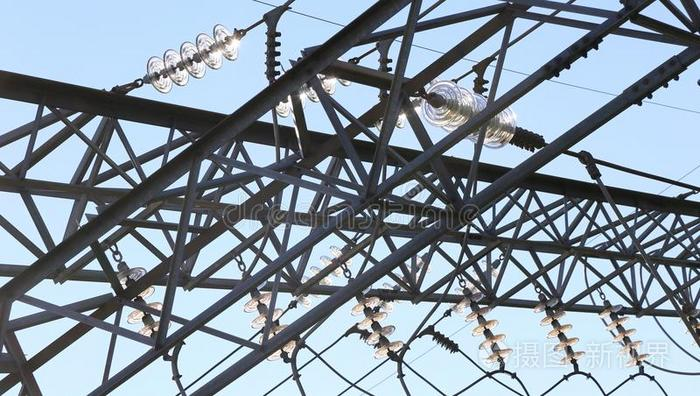insulator: (423, 81, 518, 146), (148, 23, 235, 91), (456, 289, 508, 365), (531, 295, 582, 364), (247, 286, 293, 361), (118, 265, 165, 337), (602, 304, 648, 369), (297, 247, 347, 305), (274, 74, 344, 115), (352, 295, 398, 357)
